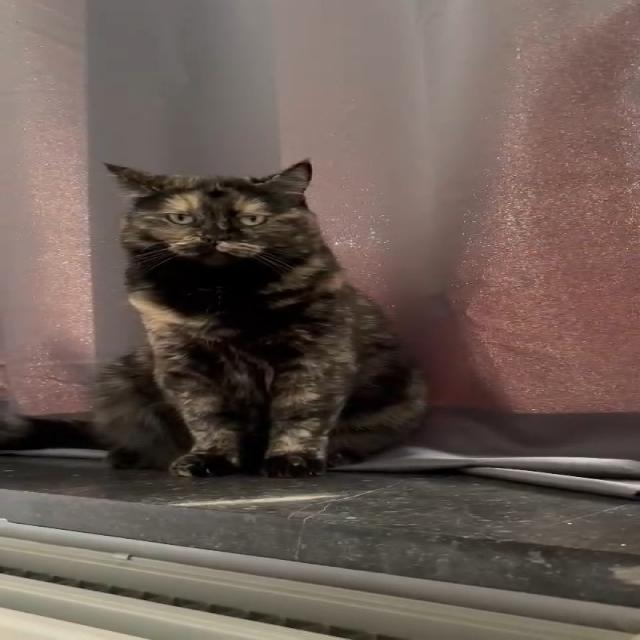authorized: (88, 157, 431, 478)
